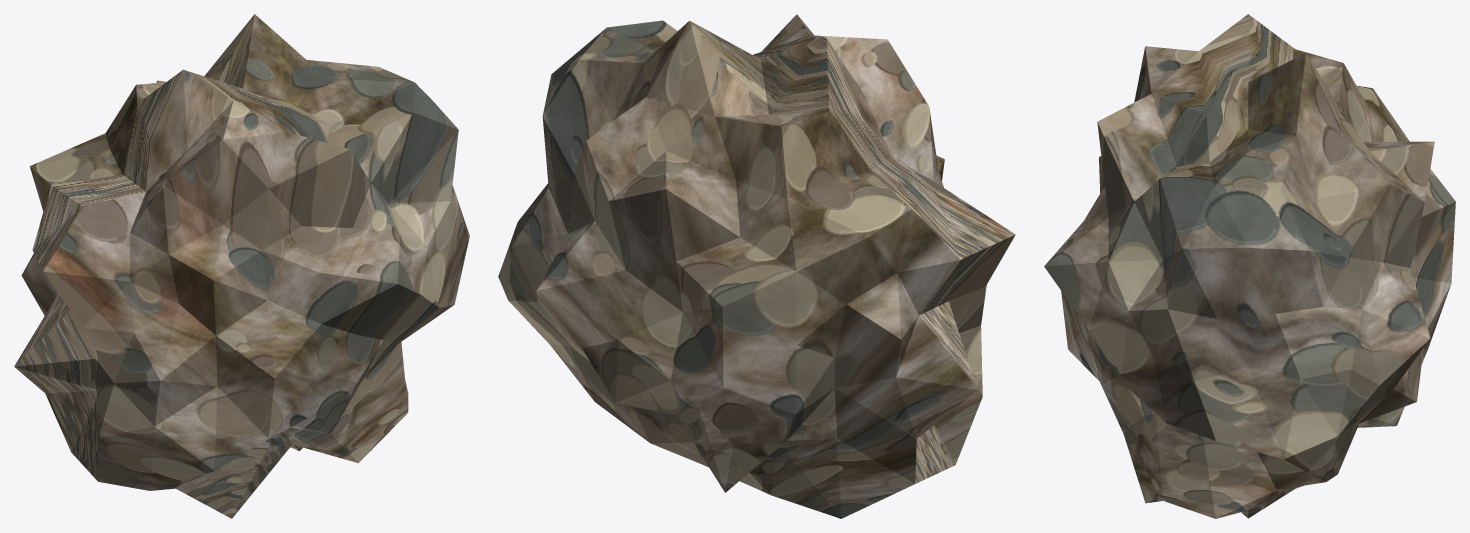
The model's file is nagelfluh_felsbrocken_03.glb.
The picture shows the model from 3 angles, left to right: view 1: azimuth 30°, elevation 25°; view 2: azimuth 150°, elevation 25°; view 3: azimuth 270°, elevation 25°; orthographic projection. The views are drawn at different scales.
Parts seen in each view (by area): view 1: natural_conglomerate; view 2: natural_conglomerate; view 3: natural_conglomerate.
Boxes of the visible parts, <box> form: natural_conglomerate: <box>14,14,469,518</box>; natural_conglomerate: <box>498,14,1015,518</box>; natural_conglomerate: <box>1044,14,1455,518</box>.
Size of the model in its own units: 5.37 by 5.23 by 4.04.
Materials: 1 (1 with a texture image).
